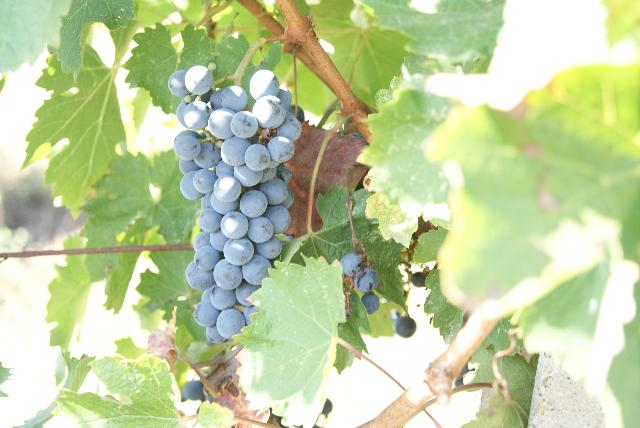grapes: (168, 65, 301, 345)
